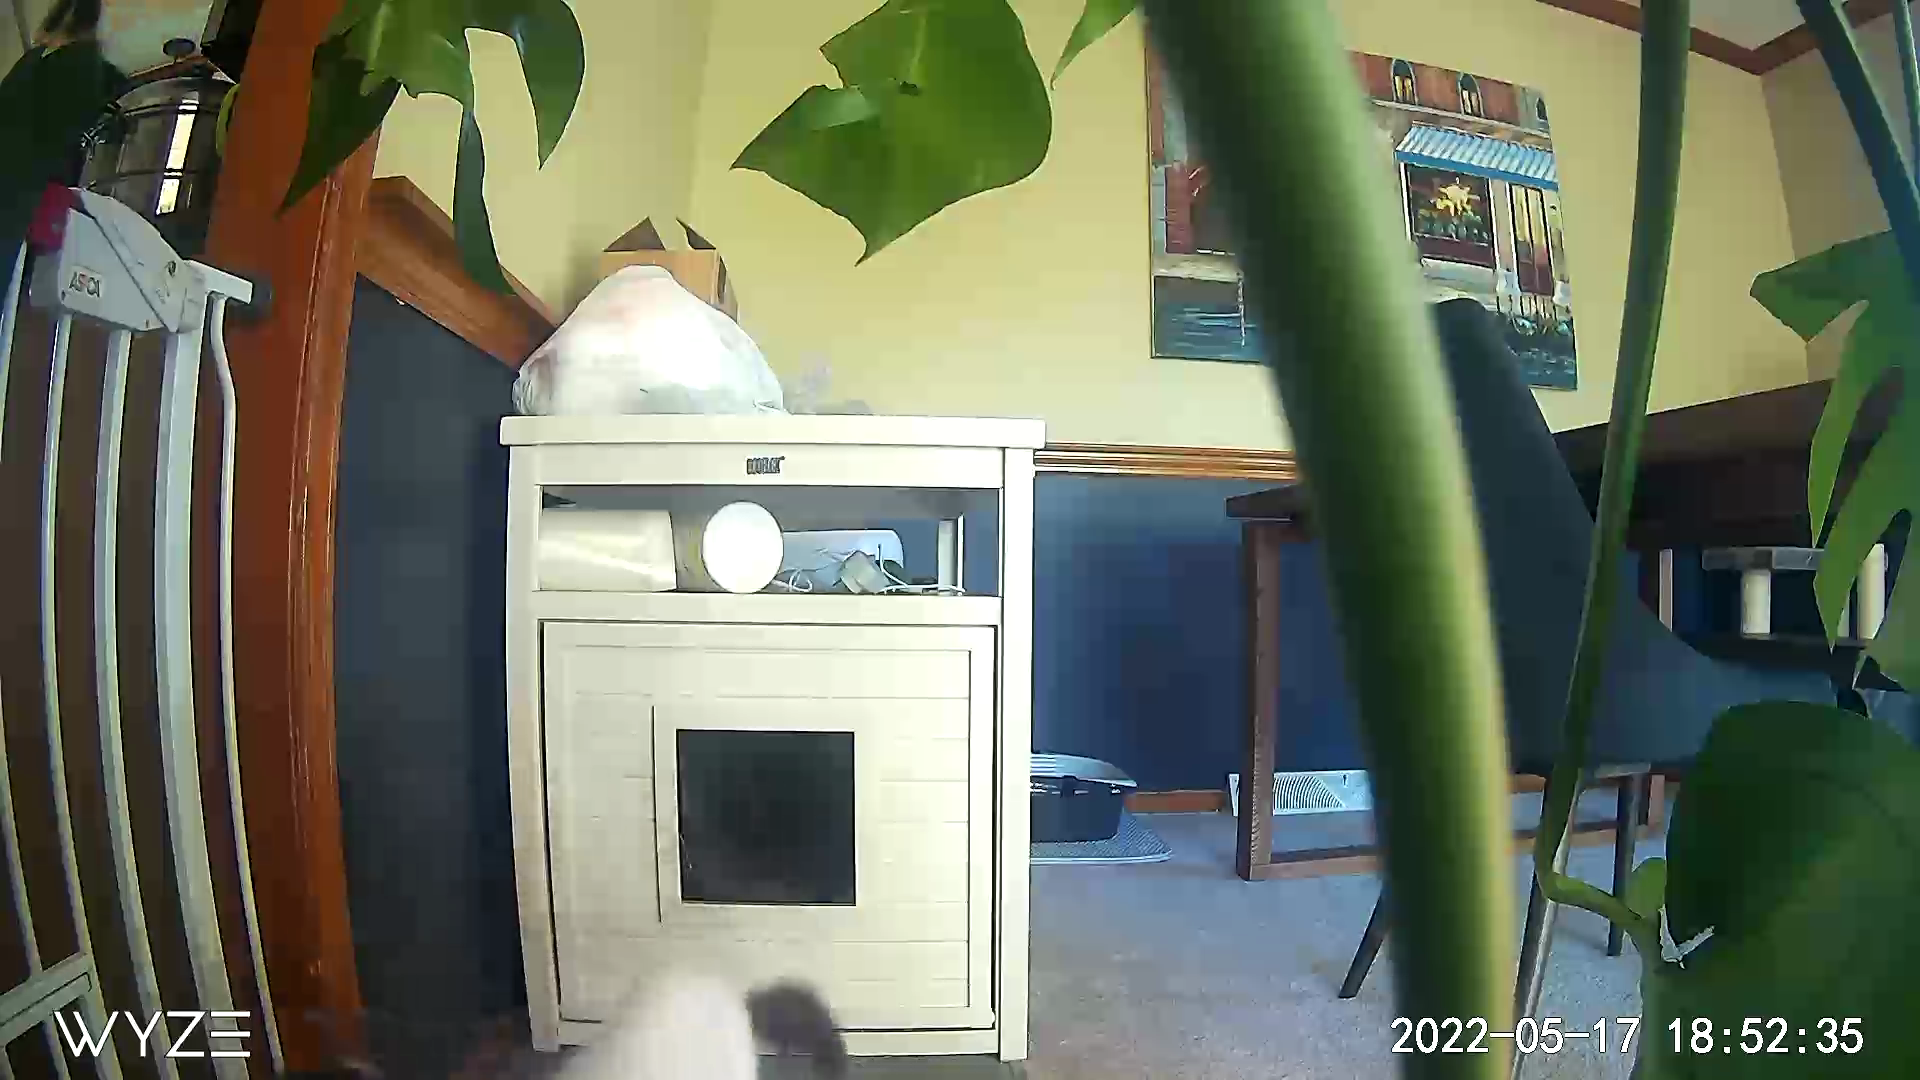maoxin: (543, 944, 851, 1080)
